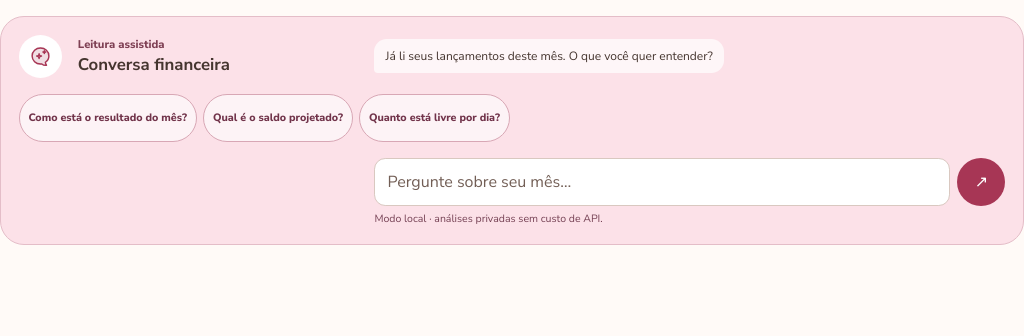
Test: FinanceAssistant › responde perguntas usando o panorama financeiro atual
This screenshot has width=1024, height=336.
In the field named "Pergunte sobre suas finanças": (662,182) [374,158,950,206], type "Quanto gasto com despesas fixas?"
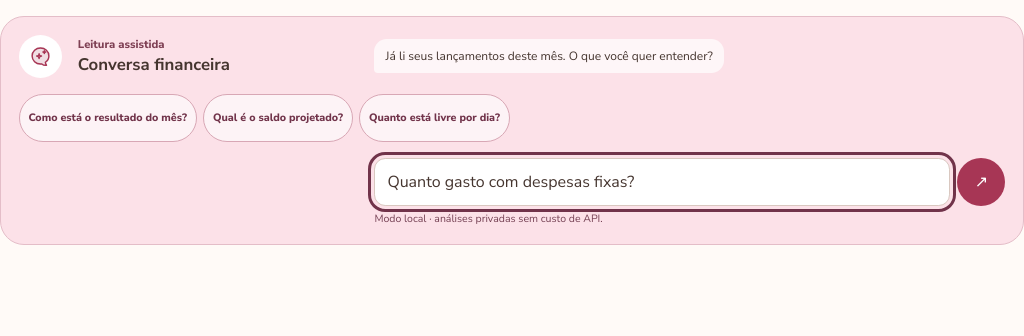
Click the button named "Enviar pergunta": (981,182) [957,158,1005,206]
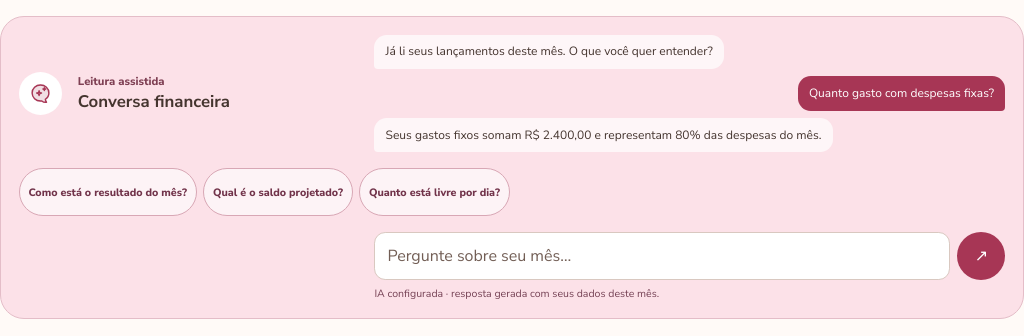
Check: the text "IA configurada · resposta gerada com seus dados deste mês." is shown, box [374,286,659,301]
